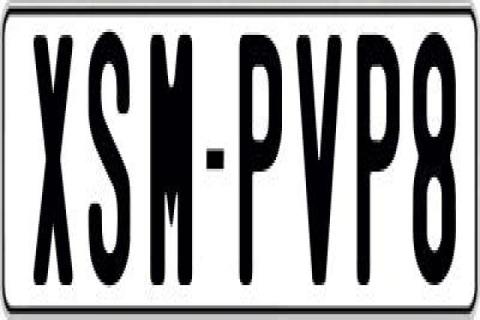0: (410, 32, 456, 291)
M: (150, 32, 194, 300)
P: (238, 32, 288, 294), (356, 35, 398, 285)
S: (88, 32, 136, 294)
V: (296, 29, 348, 297)
X: (32, 35, 76, 299)
